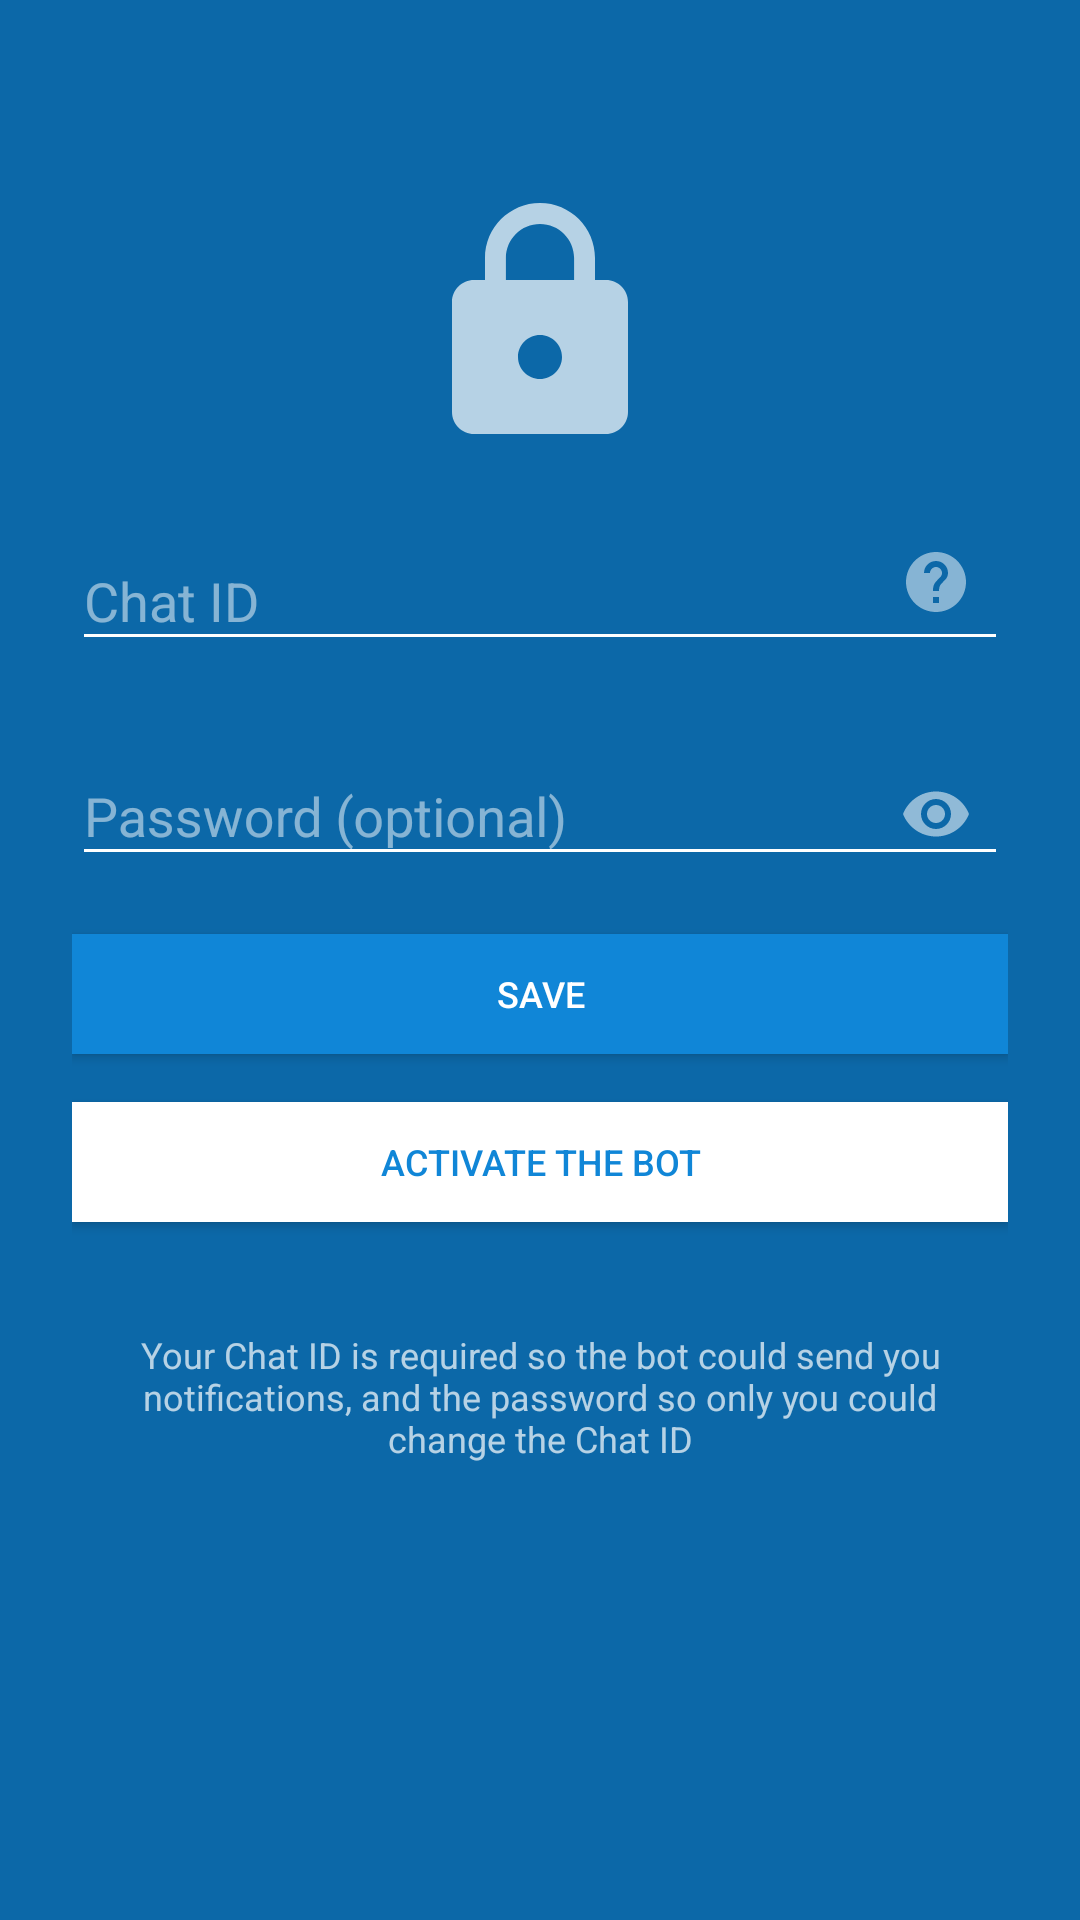

Point at icon controls on the screen. Image size 1080 x 1920, points as (x=x, y=y).
help: (x=936, y=582)
lock: (x=540, y=318)
